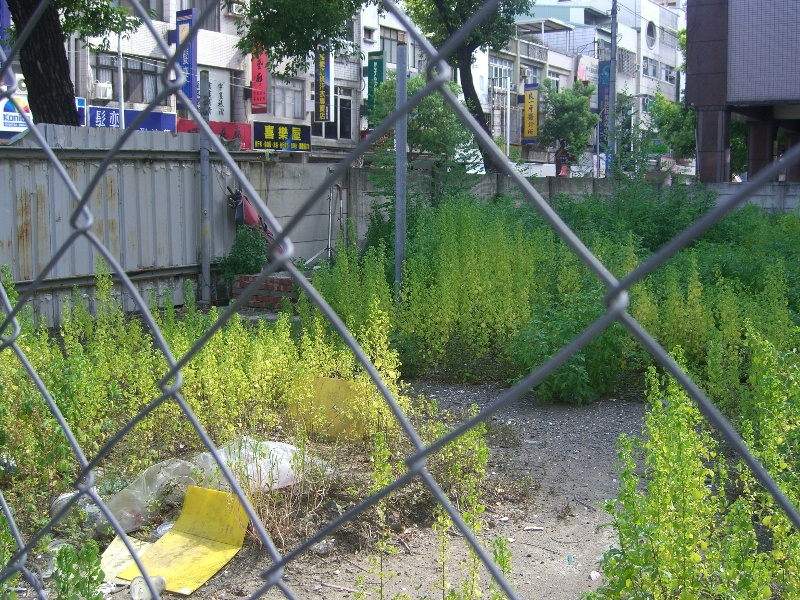plastic_bag: (54, 435, 327, 532)
